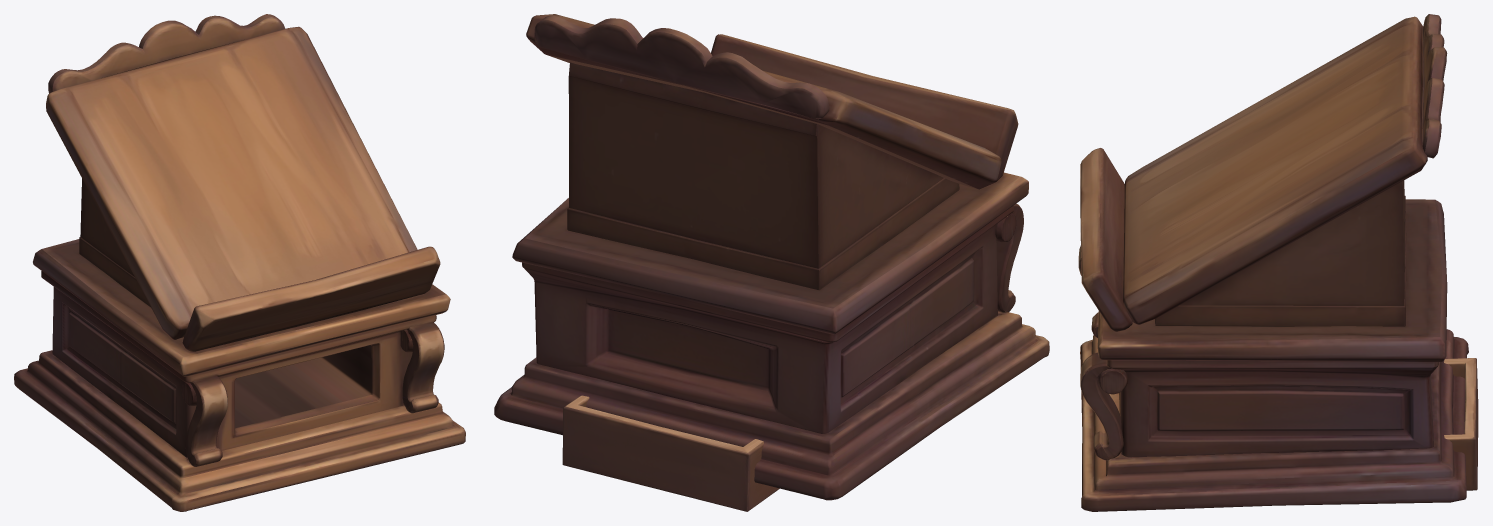
The model's file is BookStand_01.fbx.
The picture shows the model from 3 angles, left to right: view 1: azimuth 30°, elevation 25°; view 2: azimuth 150°, elevation 25°; view 3: azimuth 270°, elevation 25°; orthographic projection. The views are drawn at different scales.
Parts seen in each view (by area): view 1: SM_BookStand_01; view 2: SM_BookStand_01, SM_BookStandDrawer_01; view 3: SM_BookStand_01, SM_BookStandDrawer_01.
Boxes of the visible parts, x1,y1,x2,y2 form: SM_BookStand_01: (14,14,465,511); SM_BookStand_01: (494,14,1049,500); SM_BookStandDrawer_01: (562,395,779,511); SM_BookStand_01: (1078,14,1468,511); SM_BookStandDrawer_01: (1444,358,1478,490).
Bounding box in the file's own units: 88.37 × 106 × 92.92.
Materials: 1 (1 with a texture image).
